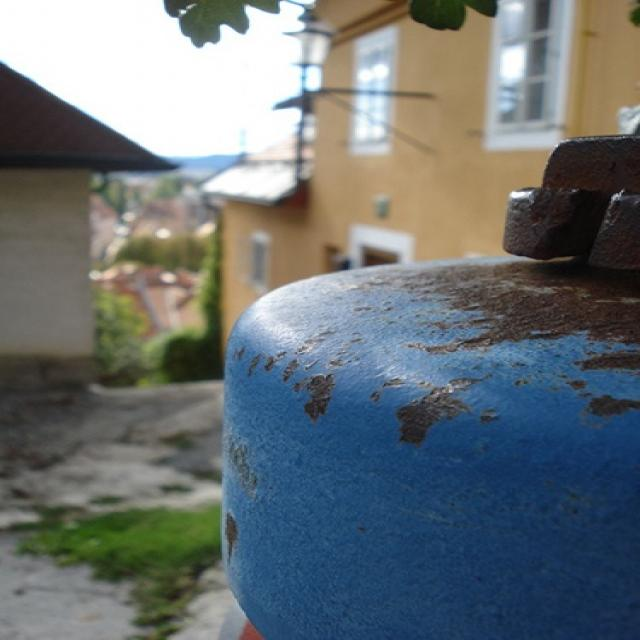fire_hydrant: (219, 133, 633, 631)
